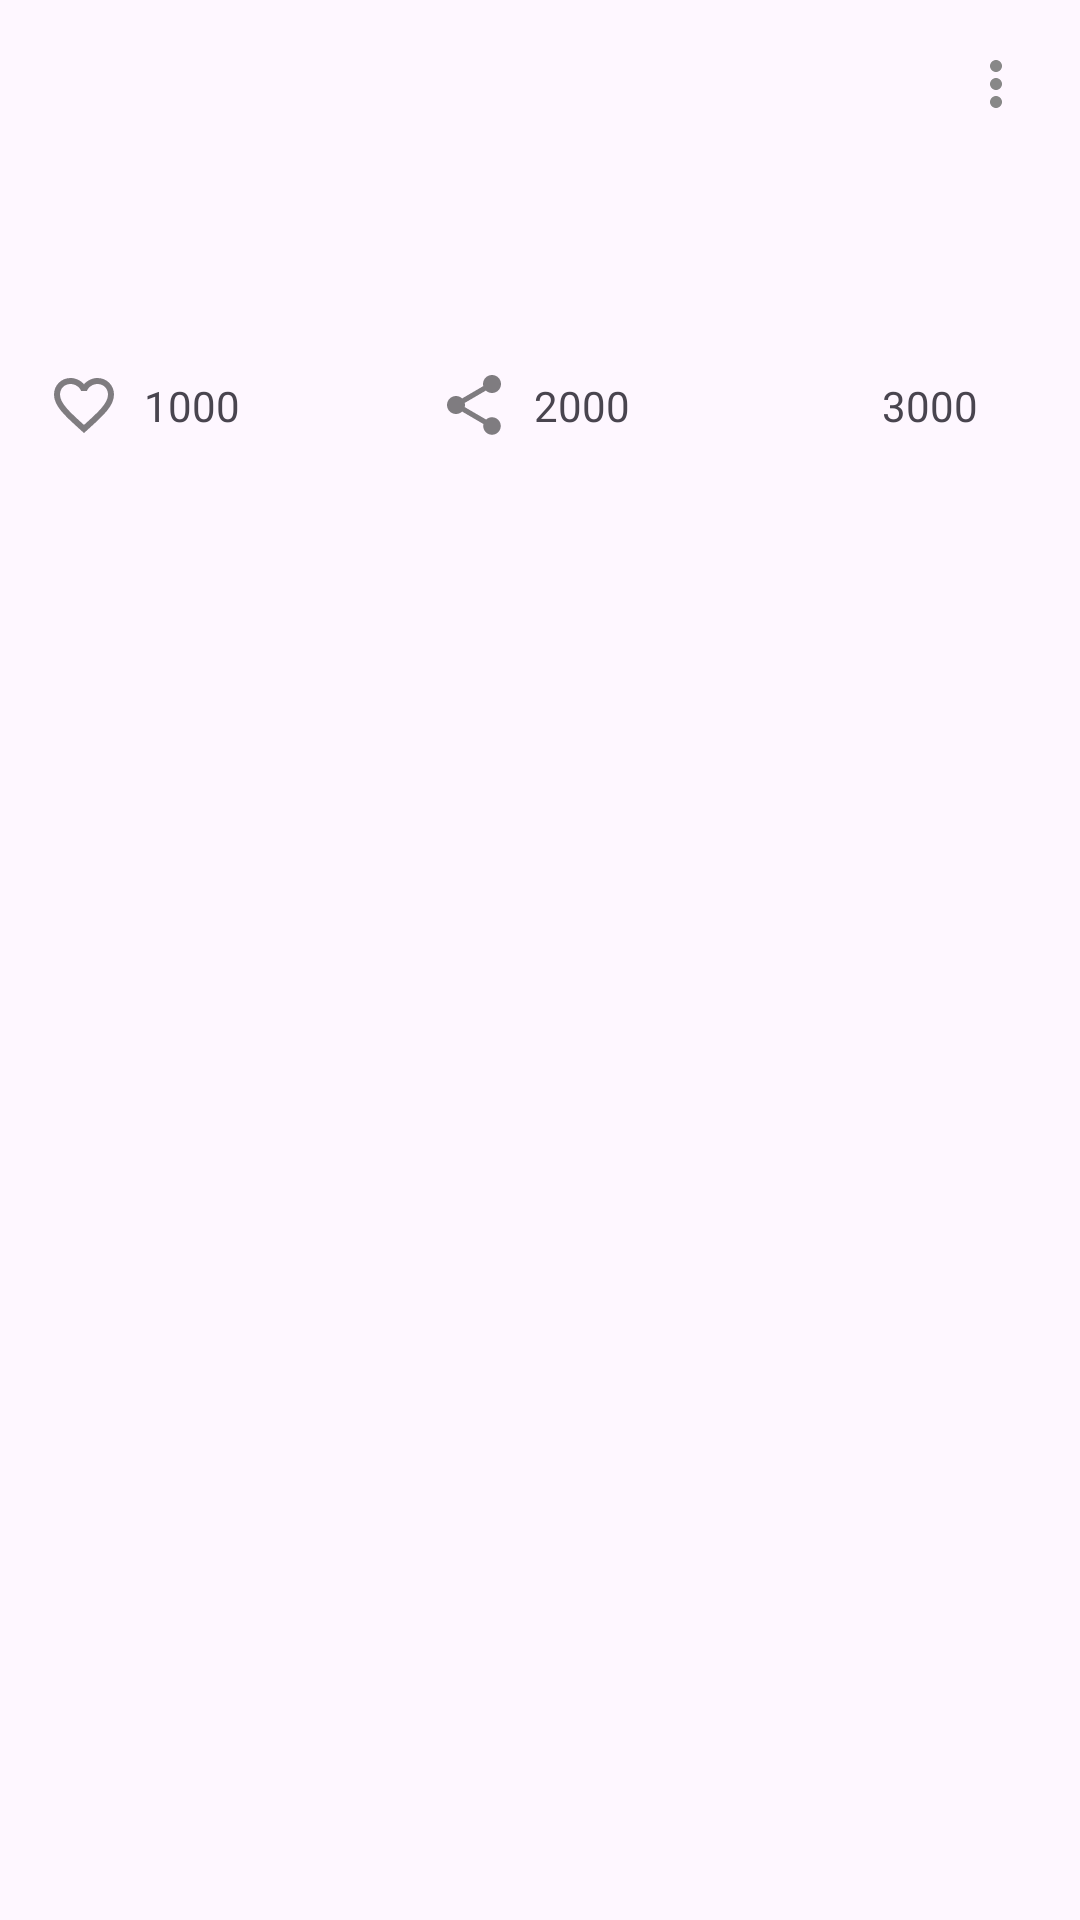

Where to tap for icons on this 1080x1920 app screen, as (x,y):
liked: (84,405)
more: (996,84)
shared: (474,405)
